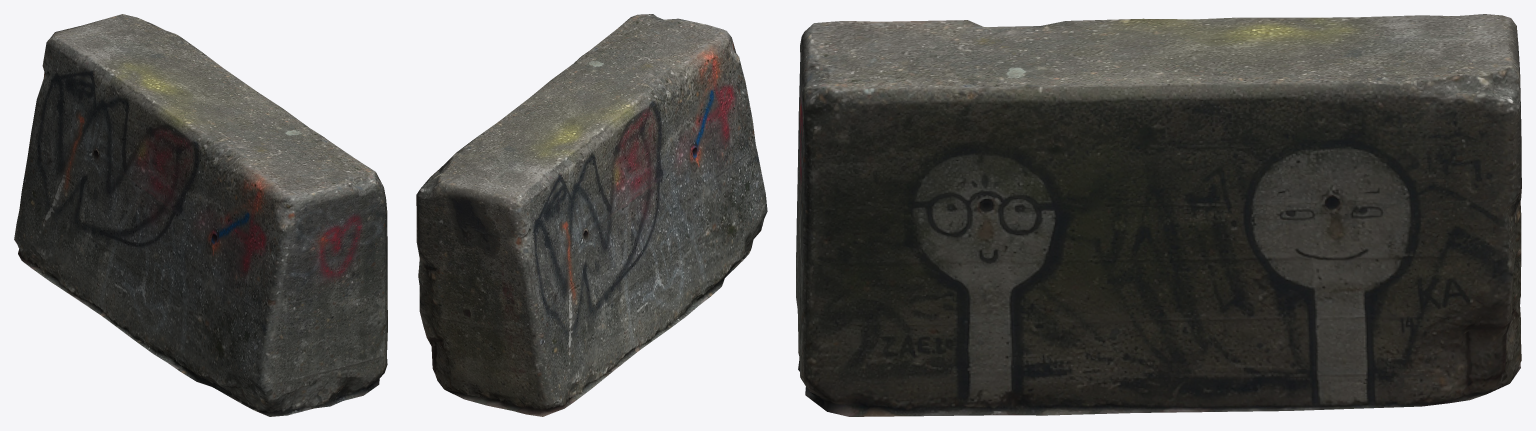
Rendered from concrete2.glb.
3 renders of one model, left to right at view 1: azimuth 30°, elevation 25°; view 2: azimuth 150°, elevation 25°; view 3: azimuth 270°, elevation 25°, orthographic. The views are drawn at different scales.
Visible parts, largest first — view 1: Barricade_01; view 2: Barricade_01; view 3: Barricade_01.
Boxes of the visible parts, x1,y1,x2,y2 form: Barricade_01: (14, 14, 387, 416); Barricade_01: (416, 14, 767, 416); Barricade_01: (796, 14, 1521, 416).
Size of the model in its own units: 0.7249 by 0.9902 by 2.
1 material, 1 textured.
